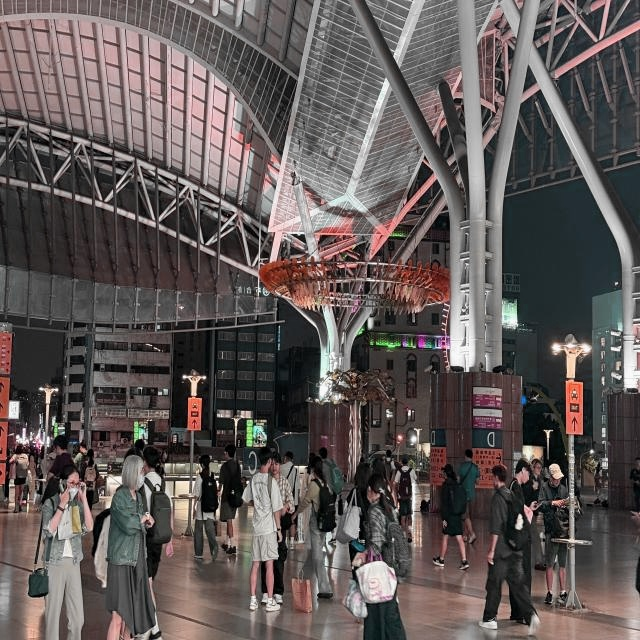Sin_Casco_Mascarrilla: (121, 455, 143, 491), (59, 465, 79, 499), (516, 457, 532, 485), (548, 464, 564, 488), (269, 451, 281, 474), (54, 435, 68, 454), (258, 446, 271, 466), (224, 443, 236, 460)
